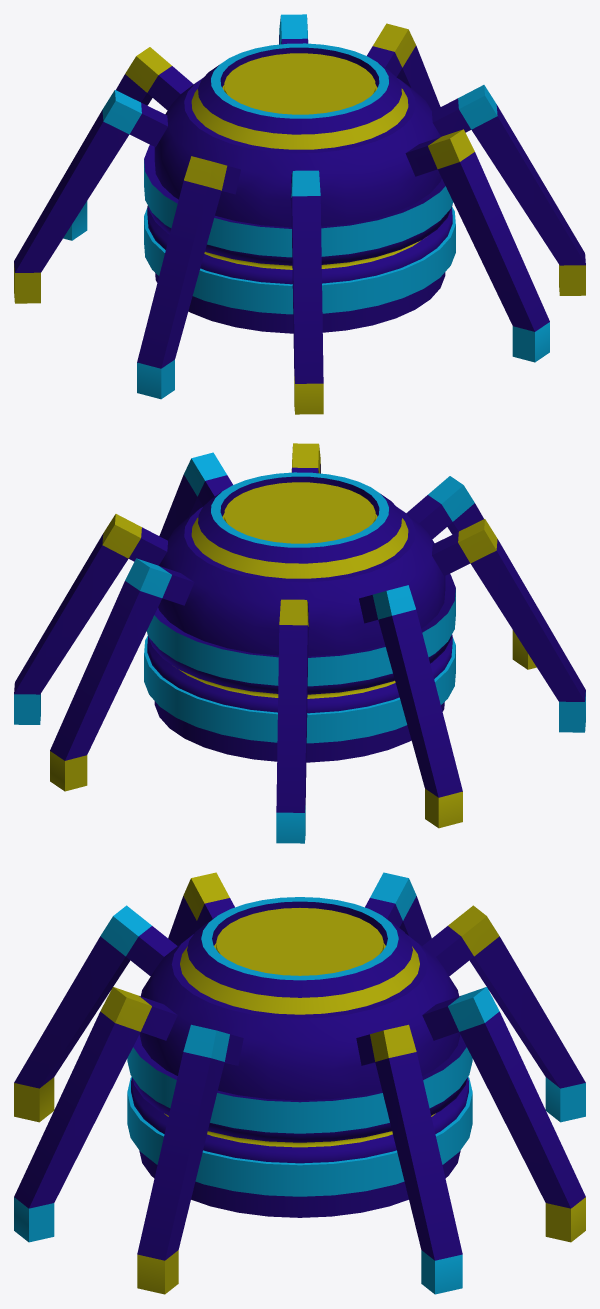
The model's file is Mine.fbx.
3 views of the same model, one above another, from view 1: azimuth 30°, elevation 25°; view 2: azimuth 150°, elevation 25°; view 3: azimuth 270°, elevation 25° (orthographic). The views are drawn at different scales.
Parts seen in each view (by area): view 1: Mine; view 2: Mine; view 3: Mine.
Boxes of the visible parts, box(x1,y1,x2,y2) form: Mine: box(14, 14, 585, 414); Mine: box(14, 443, 585, 843); Mine: box(14, 872, 585, 1294).
Size of the model in its own units: 299 by 135 by 299.
